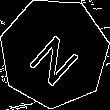N_NE: (23, 21, 85, 85)
